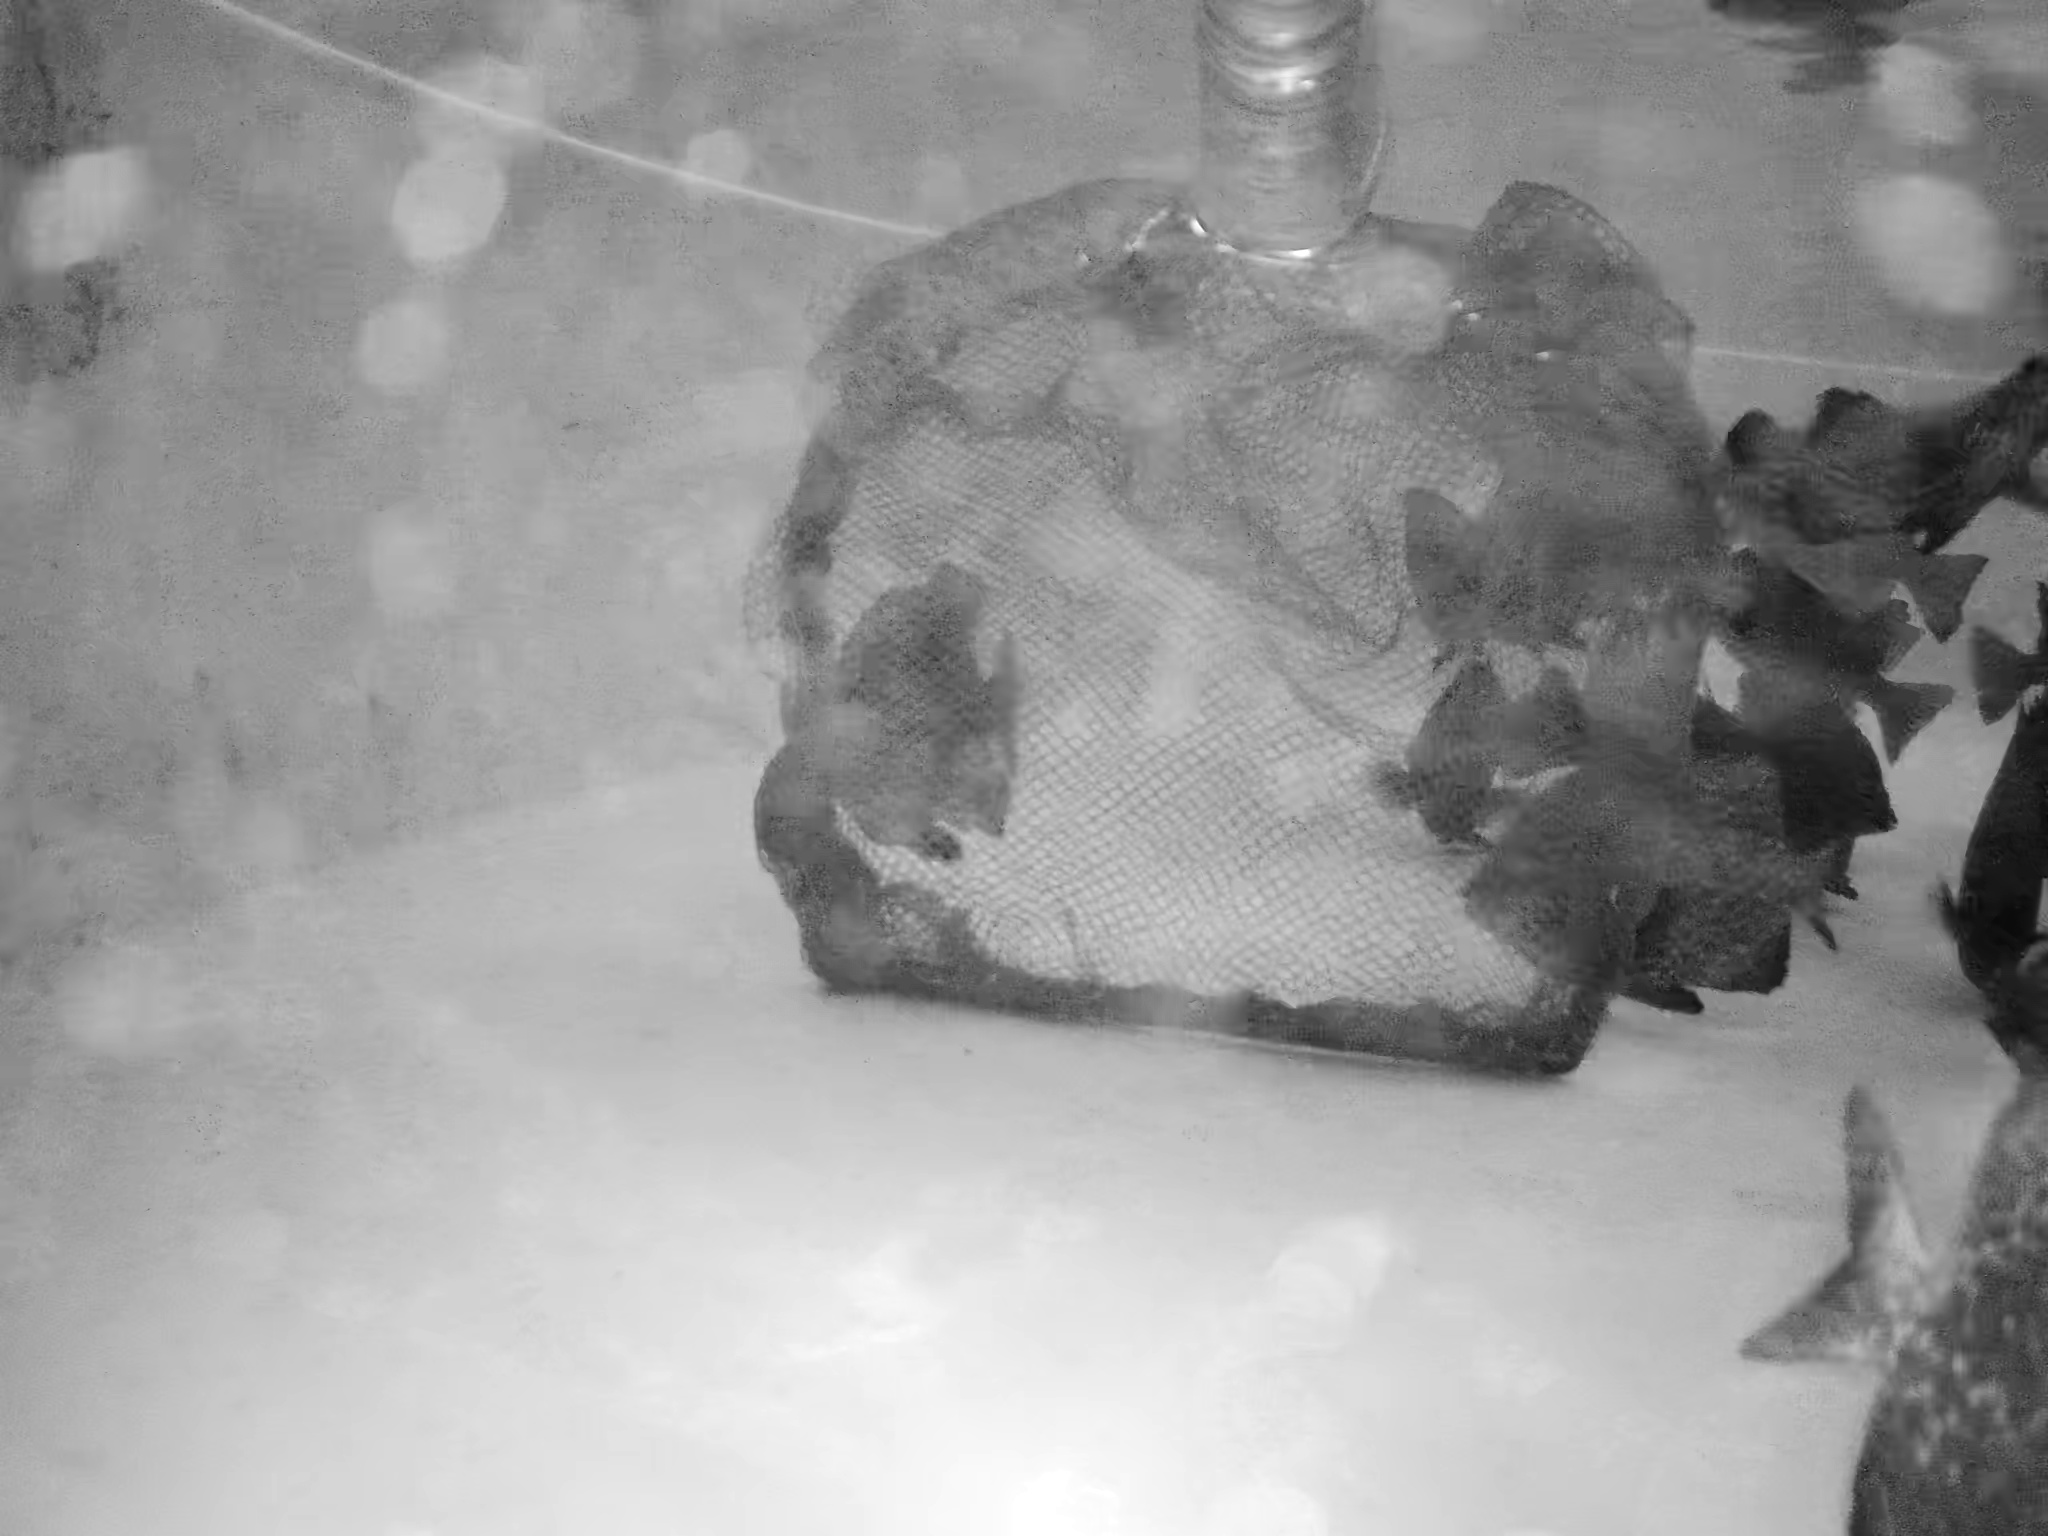fish: (1771, 1081, 2048, 1417), (1456, 773, 1829, 995), (1708, 421, 2008, 629), (837, 558, 1014, 854), (1692, 570, 1951, 744), (1780, 360, 2048, 528), (1401, 470, 1687, 623), (1948, 623, 2048, 1028), (1358, 660, 1593, 807), (1663, 679, 1887, 833)
